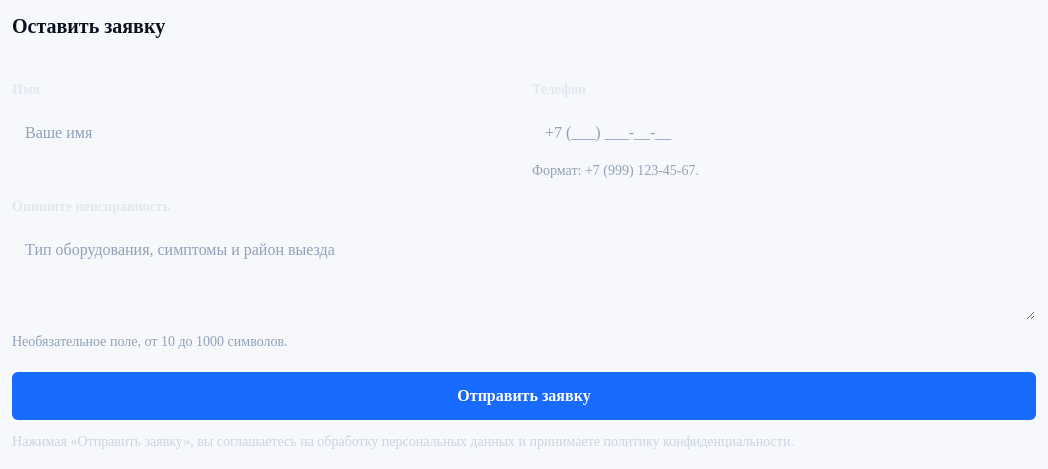
it: LeadForm › posts to the same-origin endpoint without preview badges in a production build
The width and height of the screenshot is (1048, 469).
Type "Тест" into the field labelled "Имя" at (264, 133), box [12,109,516,157]
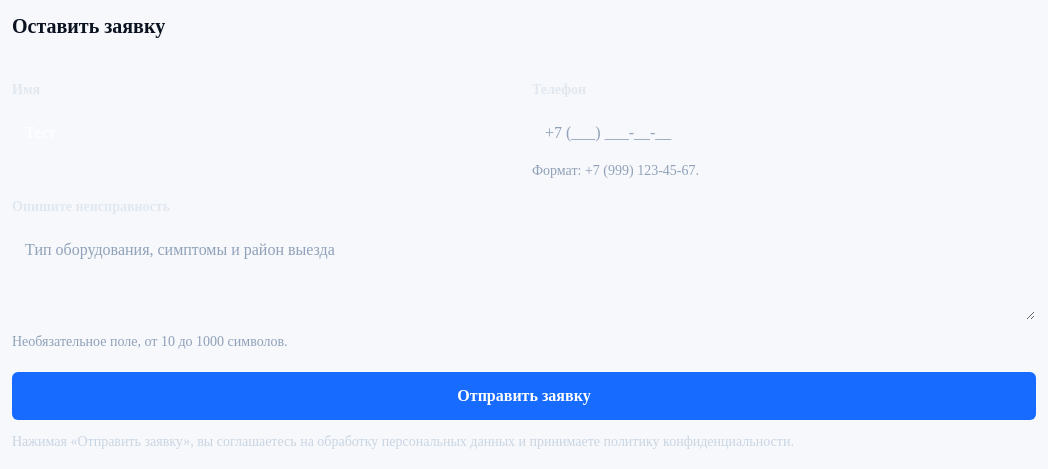
Type "89991234567" into the field labelled "Телефон" at (784, 133), box [532,109,1036,157]
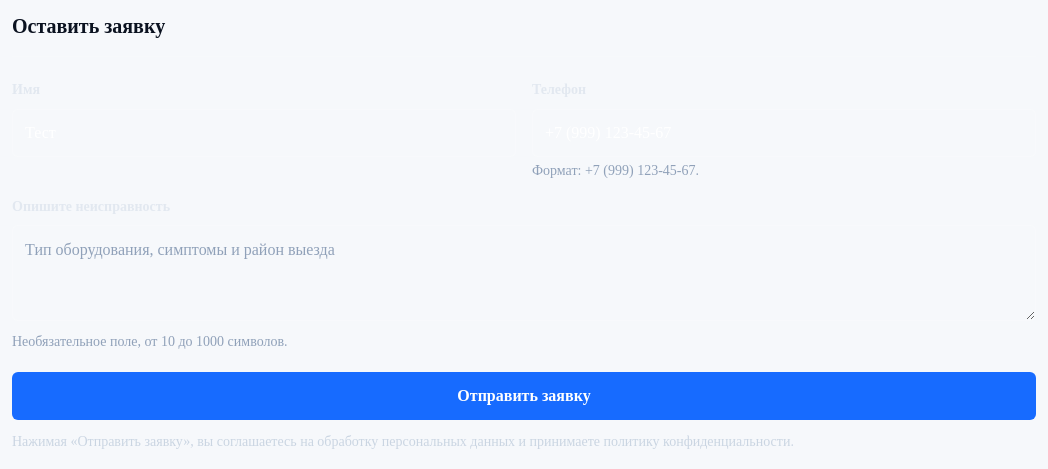
Type "Синтетическая заявка" into the text box labelled "Опишите неисправность" at (524, 273), box [12,225,1036,321]
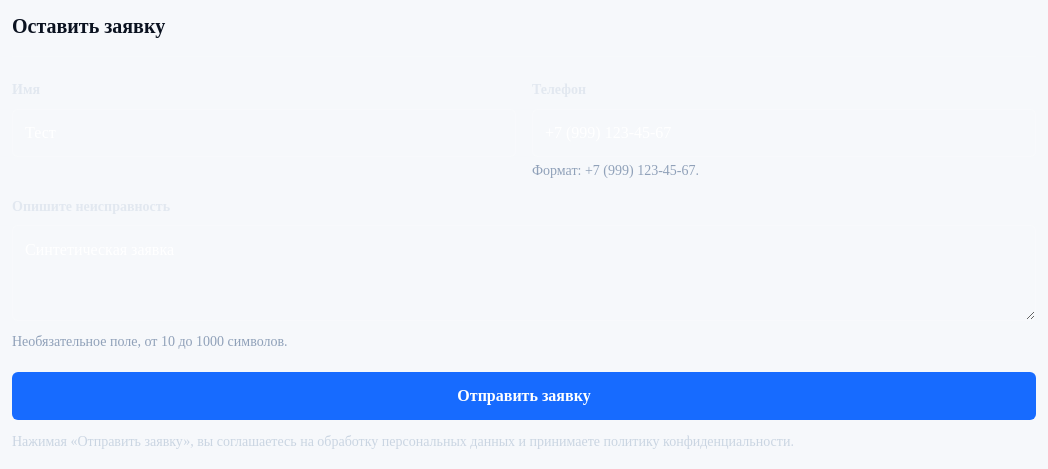
Click the button "Отправить заявку" at (524, 396), box [12,372,1036,420]
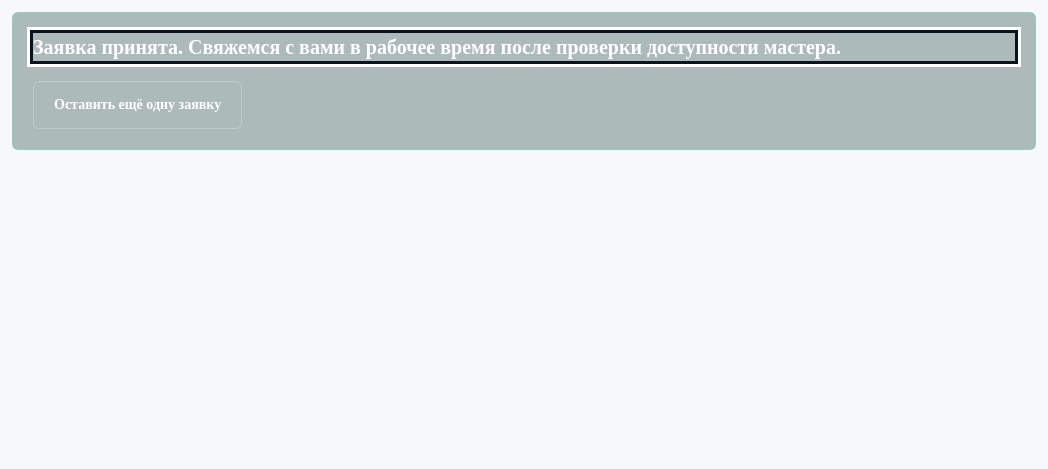
expect the heading "Заявка принята. Свяжемся с вами в рабочее время после проверки доступности мастера." is shown: met, box [33,36,841,58]
